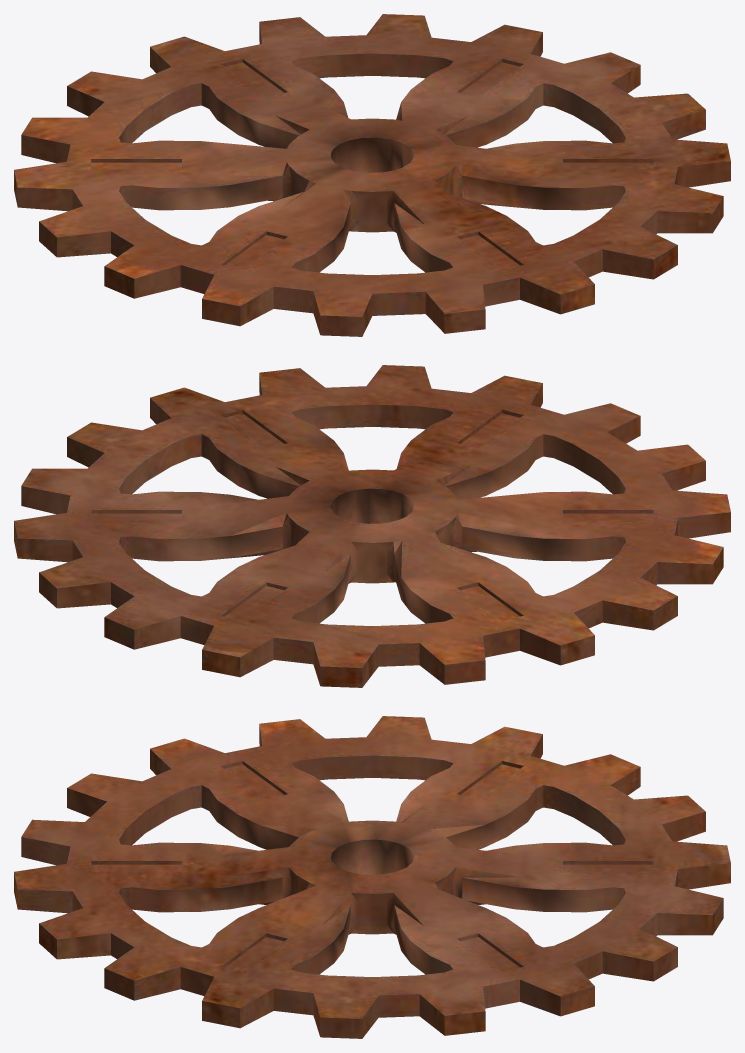
Rendered from steampunk_gear_20.glb.
The picture shows the model from 3 angles, top to bottom: view 1: azimuth 30°, elevation 25°; view 2: azimuth 150°, elevation 25°; view 3: azimuth 270°, elevation 25°; orthographic projection.
Visible parts, largest first — view 1: steampunk_gear_20; view 2: steampunk_gear_20; view 3: steampunk_gear_20.
Boxes of the visible parts, bbox=[...] form: steampunk_gear_20: bbox=[14, 14, 730, 336]; steampunk_gear_20: bbox=[14, 365, 730, 687]; steampunk_gear_20: bbox=[14, 716, 730, 1038].
Size of what is drawn, in the model's own units: 0.1546 by 0.00968 by 0.1546.
1 material, 1 textured.
